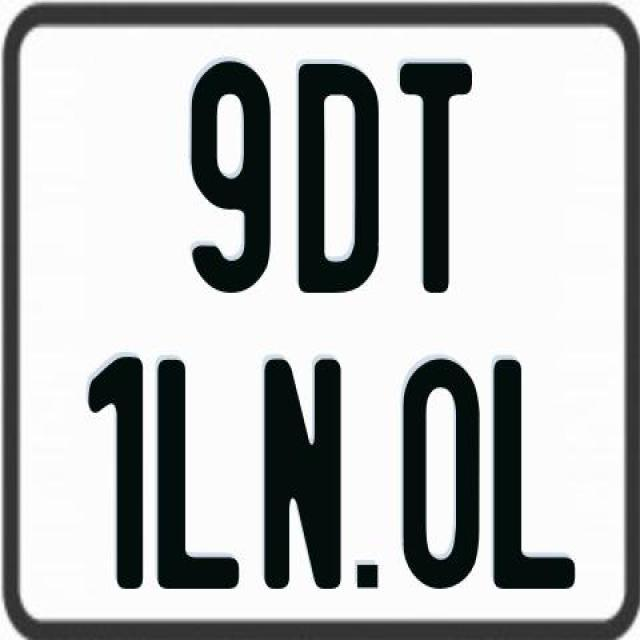0: (400, 358, 478, 596)
1: (84, 354, 146, 586)
9: (188, 56, 276, 290)
D: (298, 62, 378, 296)
L: (156, 358, 244, 594), (493, 360, 576, 597)
N: (260, 358, 339, 590)
T: (396, 63, 470, 300)
